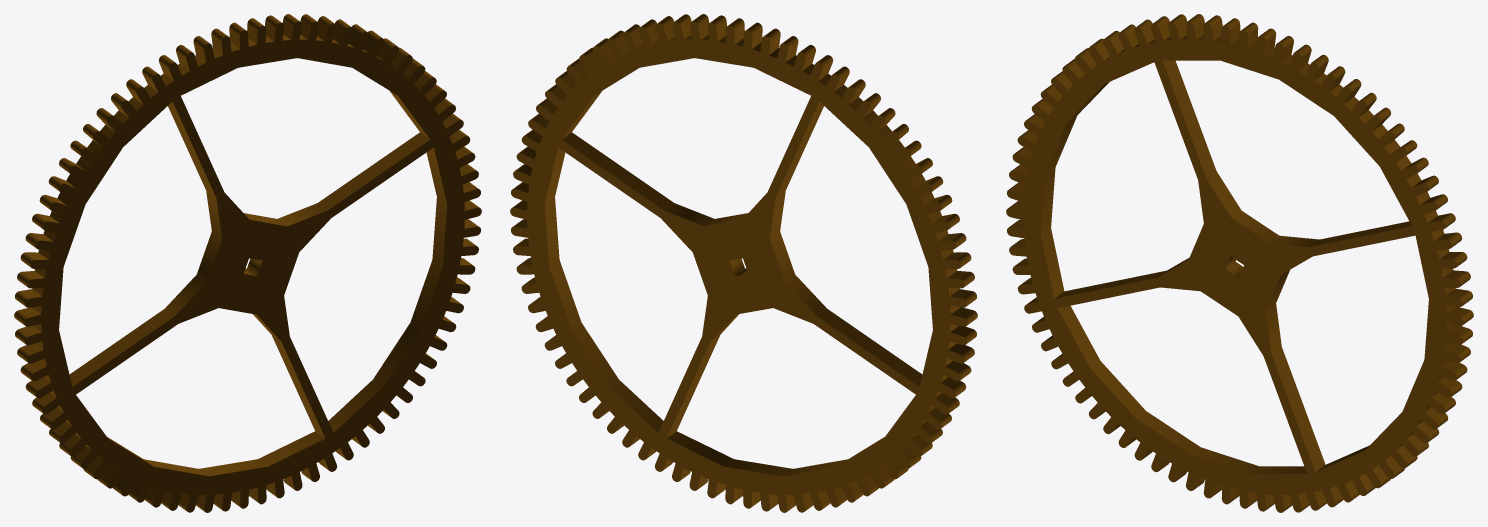
File: Copie de Grande Roue Ass 09^Copie de Assemblage 09_Horloge Comtoise Verge - Sonnerie.obj
3 views of the same model, side by side, from view 1: azimuth 30°, elevation 25°; view 2: azimuth 150°, elevation 25°; view 3: azimuth 330°, elevation 25° (orthographic).
Visible parts, largest first — view 1: Face_1, Face_171, Face_167, Face_165, Face_160, Face_162, Face_166, Face_161, Face_164; view 2: Face_177, Face_171, Face_167, Face_165, Face_160, Face_162, Face_166, Face_161, Face_164; view 3: Face_1, Face_167, Face_163, Face_172, Face_158, Face_161, Face_173, Face_162, Face_160.
Part boxes in pixels (<box>): Face_1: <box>24,21,481,512</box>; Face_171: <box>328,147,447,432</box>; Face_167: <box>107,431,325,476</box>; Face_165: <box>165,191,221,315</box>; Face_160: <box>318,132,429,210</box>; Face_162: <box>69,309,174,386</box>; Face_166: <box>272,335,324,437</box>; Face_161: <box>244,203,327,226</box>; Face_164: <box>168,102,215,197</box>; Face_177: <box>510,21,967,512</box>; Face_171: <box>544,147,663,432</box>; Face_167: <box>666,431,884,476</box>; Face_165: <box>770,191,826,315</box>; Face_160: <box>562,132,673,210</box>; Face_162: <box>817,309,922,386</box>; Face_166: <box>667,335,719,437</box>; Face_161: <box>664,203,747,226</box>; Face_164: <box>776,102,823,197</box>; Face_1: <box>1006,21,1463,512</box>; Face_167: <box>1058,305,1306,473</box>; Face_163: <box>1041,82,1109,298</box>; Face_172: <box>1271,347,1325,471</box>; Face_158: <box>1163,60,1216,177</box>; Face_161: <box>1206,171,1319,246</box>; Face_173: <box>1266,270,1289,353</box>; Face_162: <box>1054,270,1166,298</box>; Face_160: <box>1310,221,1411,246</box>.
Size of the model in its own units: 0.067 by 0.0669 by 0.0026.
